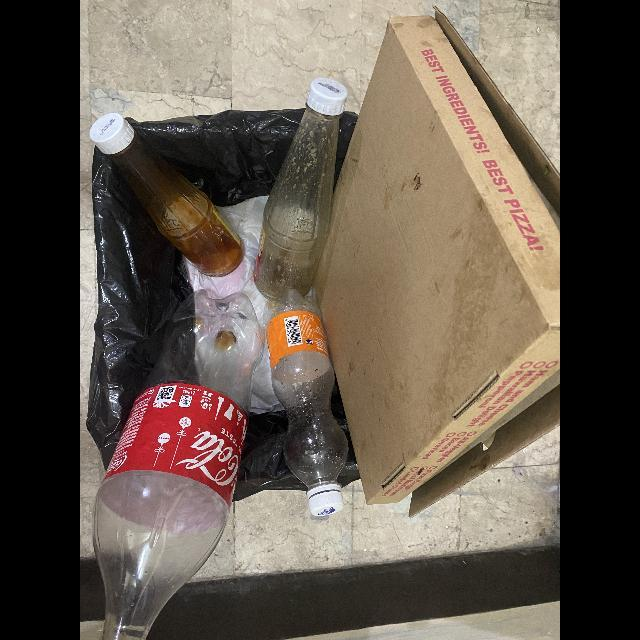glass: (89, 113, 245, 278), (253, 78, 348, 302)
paper: (317, 10, 560, 519)
plastic: (93, 293, 266, 640), (263, 290, 349, 517)
